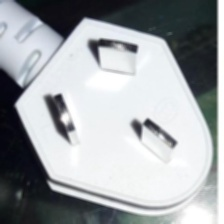three_eye_plug: (8, 10, 216, 218)
